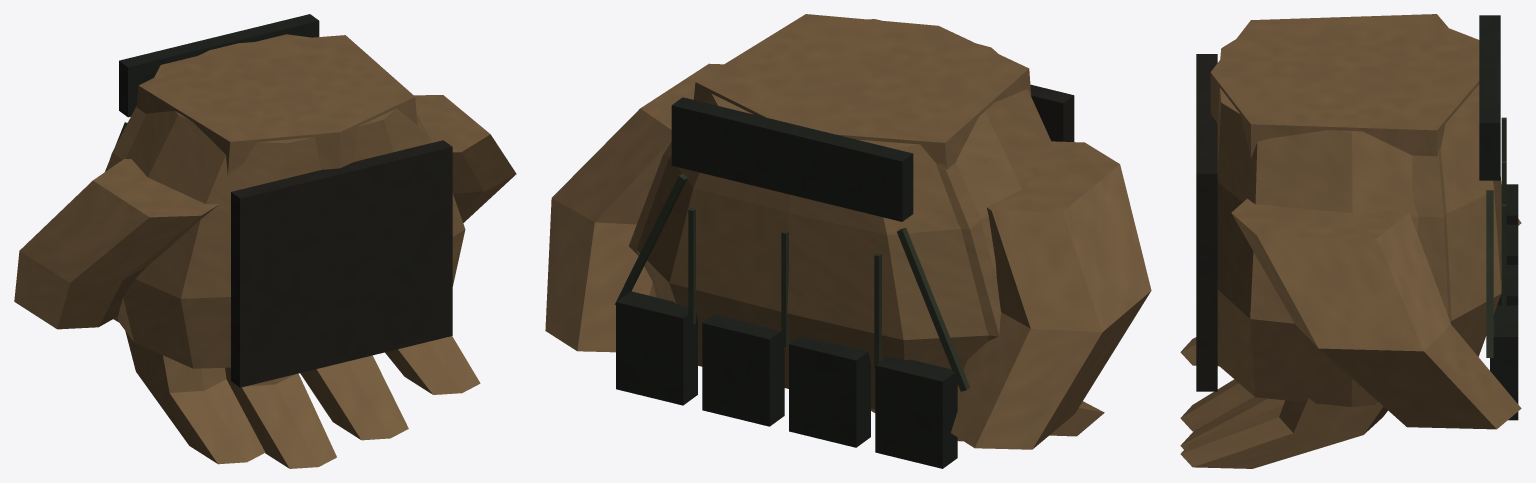
The model's file is gloves_coyote.glb.
The picture shows the model from 3 angles, left to right: view 1: azimuth 30°, elevation 25°; view 2: azimuth 150°, elevation 25°; view 3: azimuth 270°, elevation 25°; orthographic projection. The views are drawn at different scales.
Visible parts, largest first — view 1: gloves_coyote_foreL_LOD0_RAID_glove_coyote.001, gloves_coyote_foreL_LOD0_RAID_leather.001, gloves_coyote_foreL_LOD1_RAID_leather.001, gloves_coyote_foreR_LOD0_RAID_glove_coyote.001, gloves_coyote_foreL_LOD0_RAID_rubber.002, gloves_coyote_foreL_LOD1_RAID_rubber.002, gloves_coyote_foreL_LOD1_RAID_glove_coyote.001; view 2: gloves_coyote_foreL_LOD0_RAID_glove_coyote.001, gloves_coyote_foreL_LOD0_RAID_rubber.002, gloves_coyote_foreR_LOD0_RAID_glove_coyote.001, gloves_coyote_foreL_LOD1_RAID_rubber.002, gloves_coyote_foreL_LOD1_RAID_glove_coyote.001, gloves_coyote_foreL_LOD0_RAID_seam.002, gloves_coyote_foreR_LOD0_RAID_seam.002, gloves_coyote_foreL_LOD1_RAID_leather.001, gloves_coyote_foreL_LOD0_RAID_leather.001; view 3: gloves_coyote_foreL_LOD0_RAID_glove_coyote.001, gloves_coyote_foreL_LOD1_RAID_leather.001, gloves_coyote_foreL_LOD1_RAID_rubber.002, gloves_coyote_foreL_LOD0_RAID_rubber.002, gloves_coyote_foreL_LOD0_RAID_leather.001, gloves_coyote_foreL_LOD1_RAID_glove_coyote.001, gloves_coyote_foreL_LOD0_RAID_seam.002.
Part boxes in pixels (box(x1,y1,x2,y2)): gloves_coyote_foreL_LOD0_RAID_glove_coyote.001: box(117, 34, 516, 468); gloves_coyote_foreL_LOD0_RAID_leather.001: box(231, 145, 452, 384); gloves_coyote_foreL_LOD1_RAID_leather.001: box(231, 140, 452, 387); gloves_coyote_foreR_LOD0_RAID_glove_coyote.001: box(14, 159, 219, 329); gloves_coyote_foreL_LOD0_RAID_rubber.002: box(119, 18, 319, 111); gloves_coyote_foreL_LOD1_RAID_rubber.002: box(119, 14, 319, 117); gloves_coyote_foreL_LOD1_RAID_glove_coyote.001: box(106, 106, 146, 322); gloves_coyote_foreL_LOD0_RAID_glove_coyote.001: box(545, 14, 1104, 441); gloves_coyote_foreL_LOD0_RAID_rubber.002: box(616, 103, 957, 467); gloves_coyote_foreR_LOD0_RAID_glove_coyote.001: box(951, 141, 1151, 449); gloves_coyote_foreL_LOD1_RAID_rubber.002: box(616, 97, 957, 468); gloves_coyote_foreL_LOD1_RAID_glove_coyote.001: box(629, 142, 1000, 340); gloves_coyote_foreL_LOD0_RAID_seam.002: box(615, 173, 881, 369); gloves_coyote_foreR_LOD0_RAID_seam.002: box(897, 228, 969, 391); gloves_coyote_foreL_LOD1_RAID_leather.001: box(1030, 84, 1074, 141); gloves_coyote_foreL_LOD0_RAID_leather.001: box(1031, 87, 1074, 141); gloves_coyote_foreL_LOD0_RAID_glove_coyote.001: box(1180, 14, 1521, 468); gloves_coyote_foreL_LOD1_RAID_leather.001: box(1196, 54, 1217, 391); gloves_coyote_foreL_LOD1_RAID_rubber.002: box(1479, 15, 1518, 420); gloves_coyote_foreL_LOD0_RAID_rubber.002: box(1479, 26, 1518, 403); gloves_coyote_foreL_LOD0_RAID_leather.001: box(1196, 66, 1217, 360); gloves_coyote_foreL_LOD1_RAID_glove_coyote.001: box(1412, 149, 1451, 322); gloves_coyote_foreL_LOD0_RAID_seam.002: box(1486, 117, 1506, 357).
Size of the model in its own units: 0.1719 by 0.115 by 0.0965.
4 materials, 4 textured.
